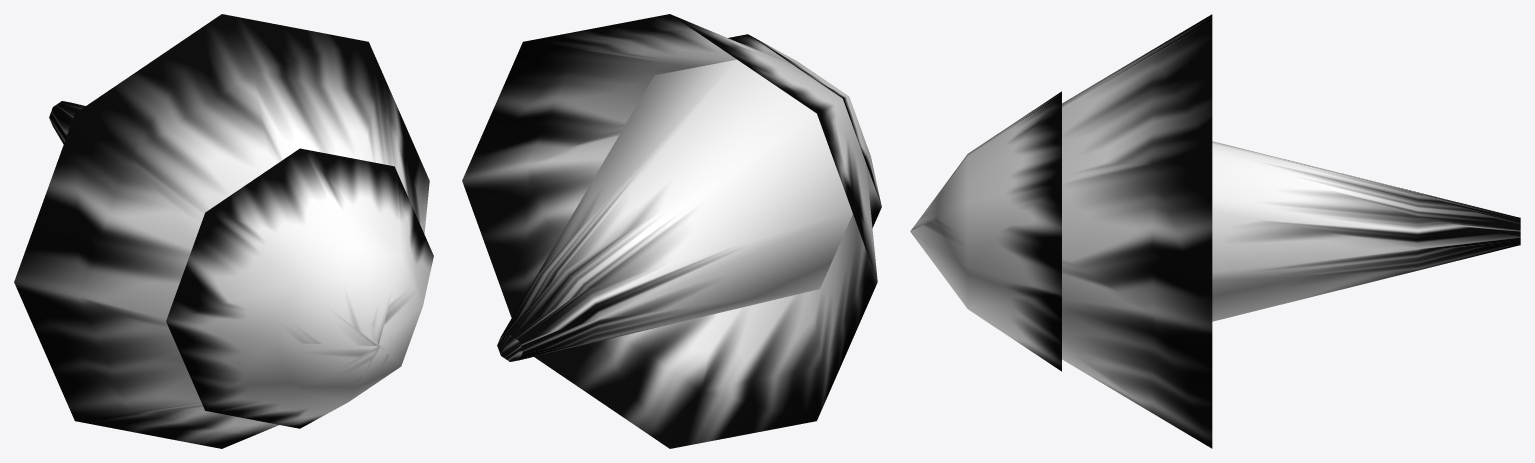
Rendered from braster.FBX.
The picture shows the model from 3 angles, left to right: view 1: azimuth 30°, elevation 25°; view 2: azimuth 150°, elevation 25°; view 3: azimuth 270°, elevation 25°; orthographic projection. The views are drawn at different scales.
Visible parts, largest first — view 1: オブジェクト001, Sphere003, オブジェクト002; view 2: オブジェクト001, オブジェクト002, Sphere003; view 3: オブジェクト001, オブジェクト002, Sphere003.
Boxes of the visible parts, <box> form: オブジェクト001: <box>14,14,429,448</box>; Sphere003: <box>166,148,433,428</box>; オブジェクト002: <box>49,101,85,144</box>; オブジェクト001: <box>462,14,877,448</box>; オブジェクト002: <box>497,59,852,361</box>; Sphere003: <box>728,34,881,227</box>; オブジェクト001: <box>1062,14,1212,448</box>; オブジェクト002: <box>1212,141,1520,321</box>; Sphere003: <box>910,91,1061,371</box>.
Bounding box in the file's own units: 85.44 × 85.44 × 113.
